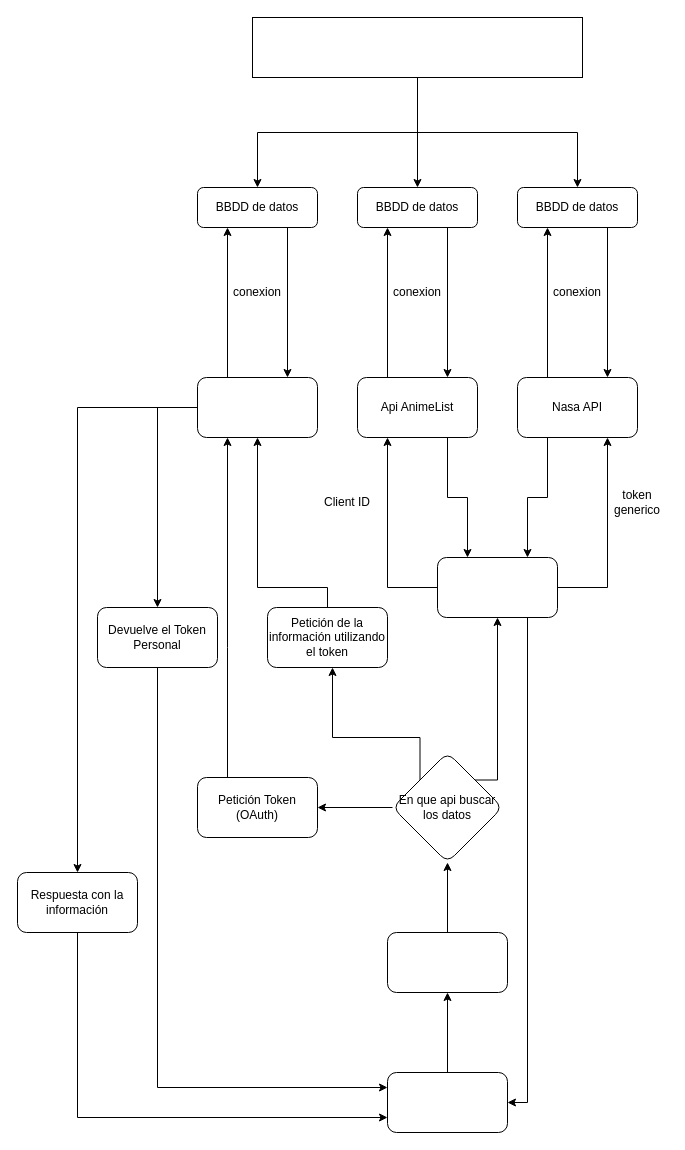
Some shapes in this 685 by 1150 pixel diagram are drawn without their labels. Each missing label, with the centre of its shape:
"AniList" goes at pixel 257 407.
"API's DISPONIBLES" goes at pixel 417 47.
"Consulta cliente" goes at pixel 447 962.
"Consulta con token de registro" goes at pixel 497 587.
"Programa" goes at pixel 447 1102.
